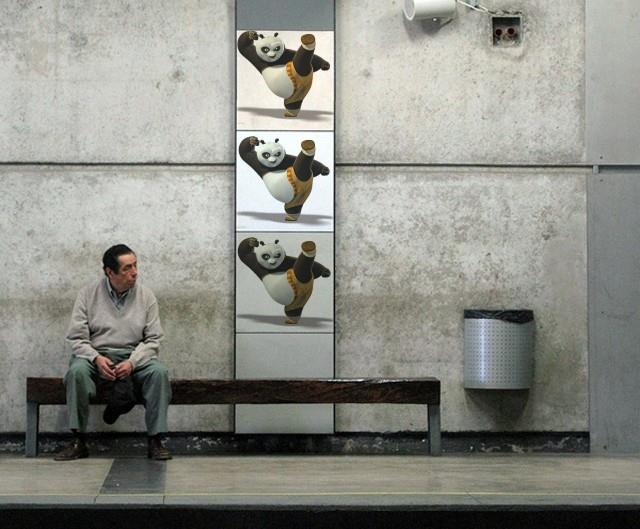Kung_Fu_Panda: (236, 24, 332, 128)
